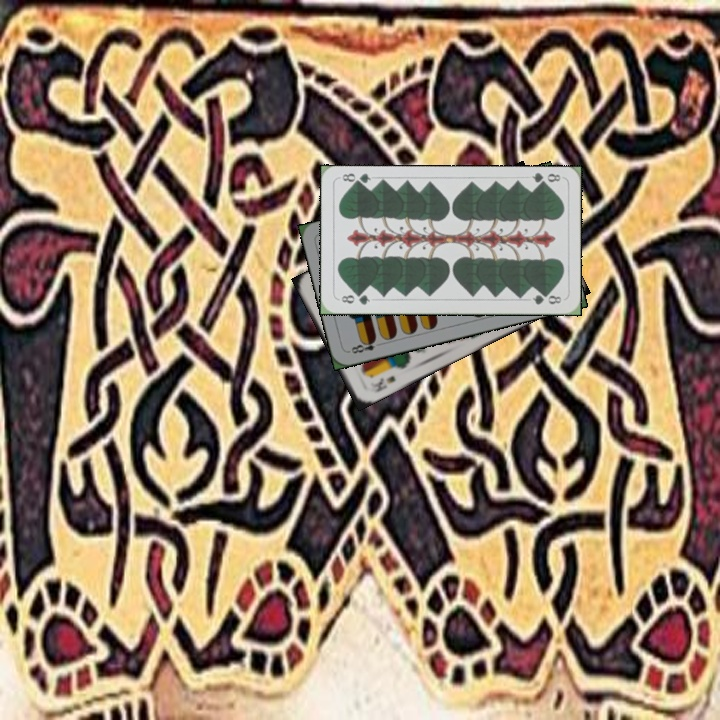E8: (345, 334, 385, 356)
EK: (365, 371, 398, 395)
G8: (528, 169, 563, 189), (337, 290, 372, 307)
